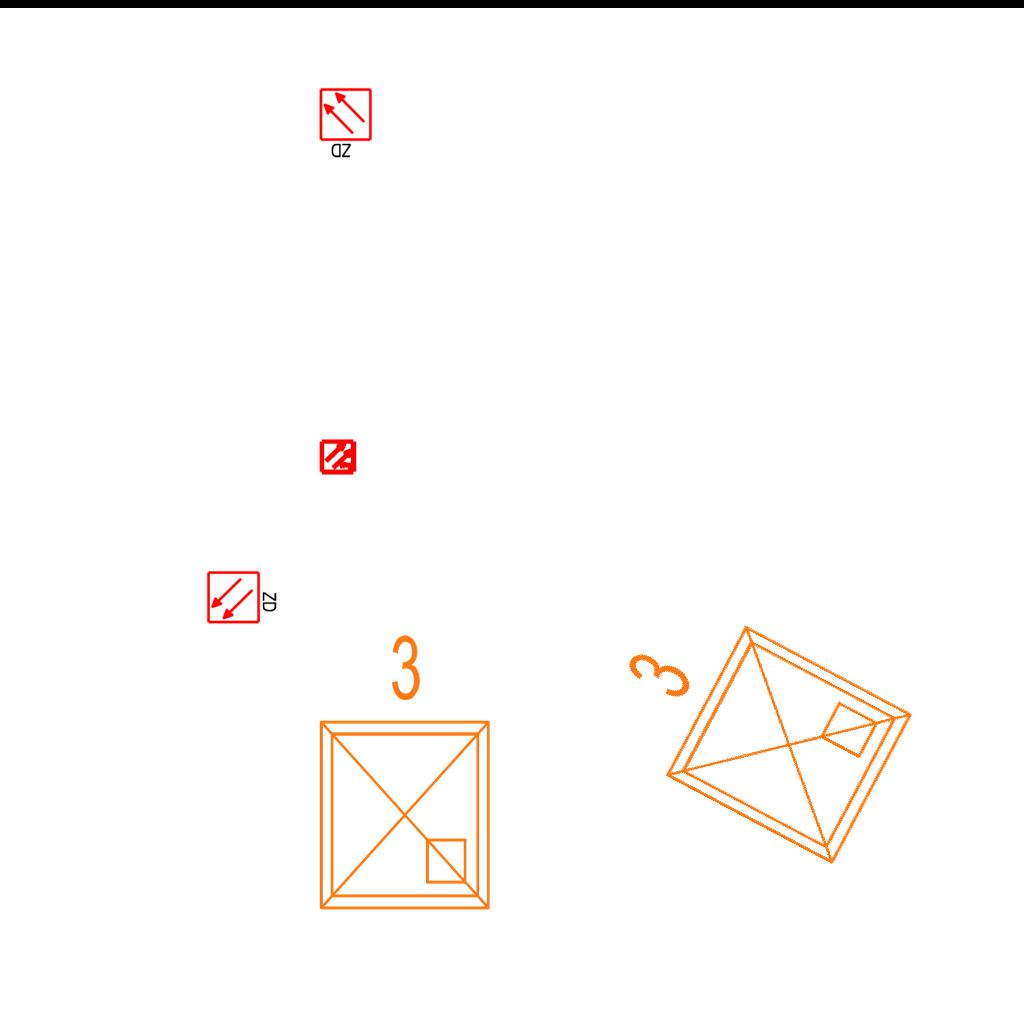Einbaudownlights_LED_Konferenzraeume: (569, 566, 933, 892), (297, 624, 505, 924)
OT_Multisensormelder_(Kombination_RMO_WMD): (311, 429, 367, 485)
ZD_Melder_in_Zwischendecke_mit_Revisionsoeffnung_mind_40_x_40_cm: (318, 87, 375, 161), (206, 568, 280, 625)
